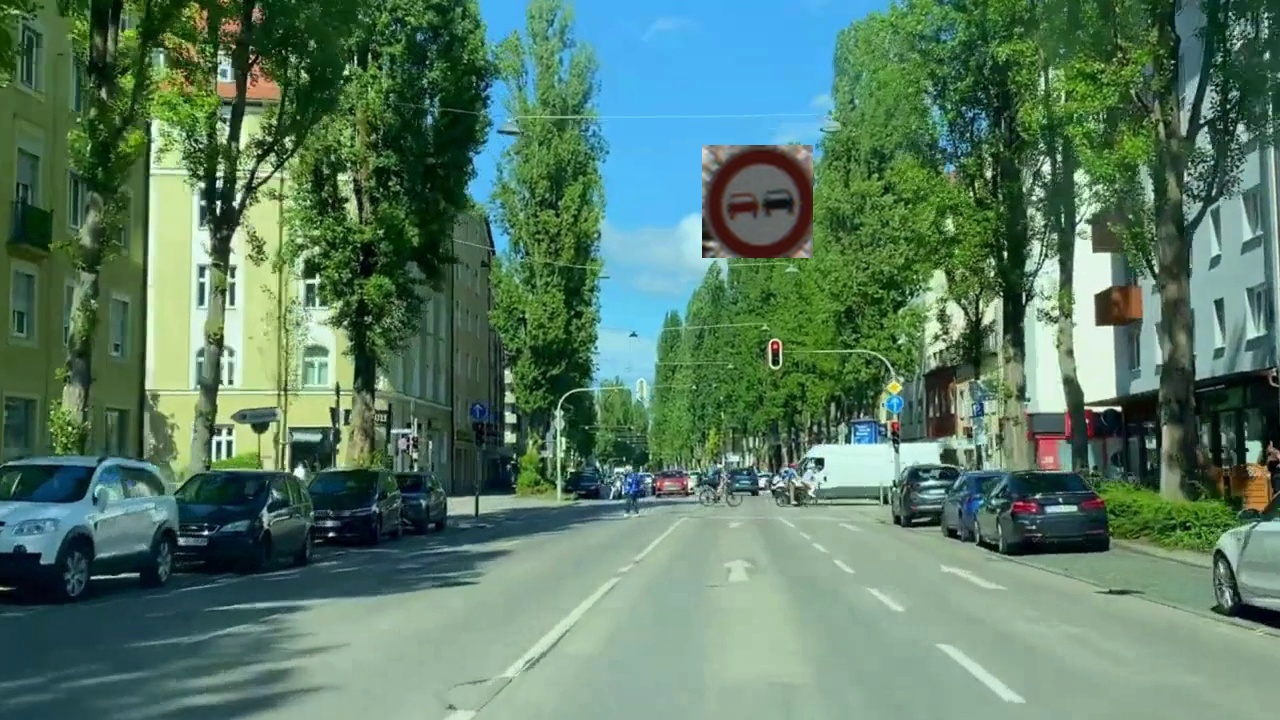No passing: (702, 145, 813, 258)
